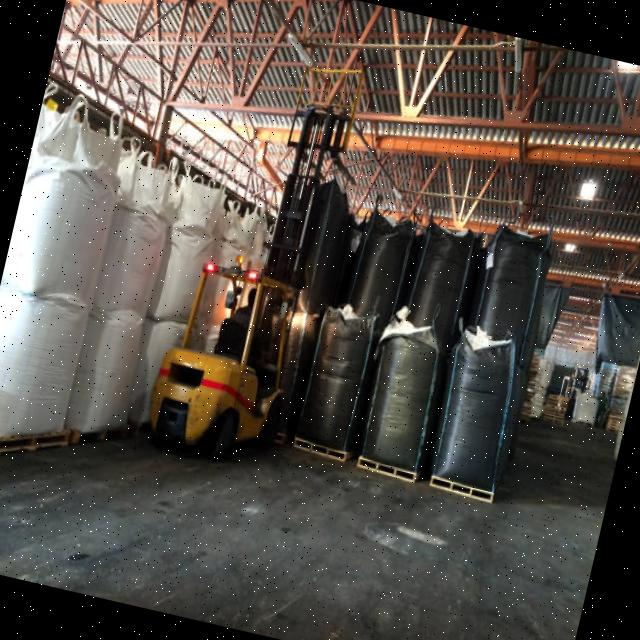Wooden-Pallets: (424, 473, 493, 508), (354, 452, 412, 490)
